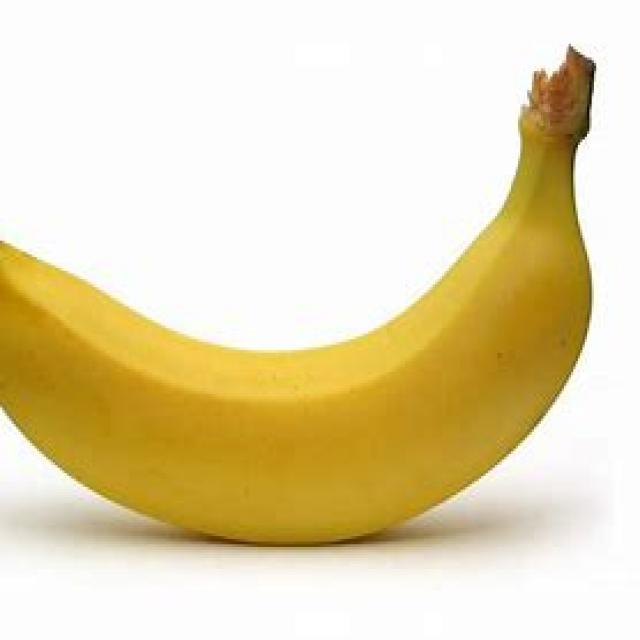Banana: (0, 56, 598, 549)
